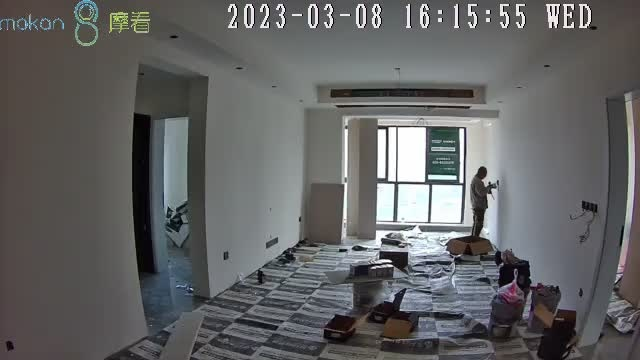people: (470, 164, 497, 235)
window: (377, 126, 464, 225)
